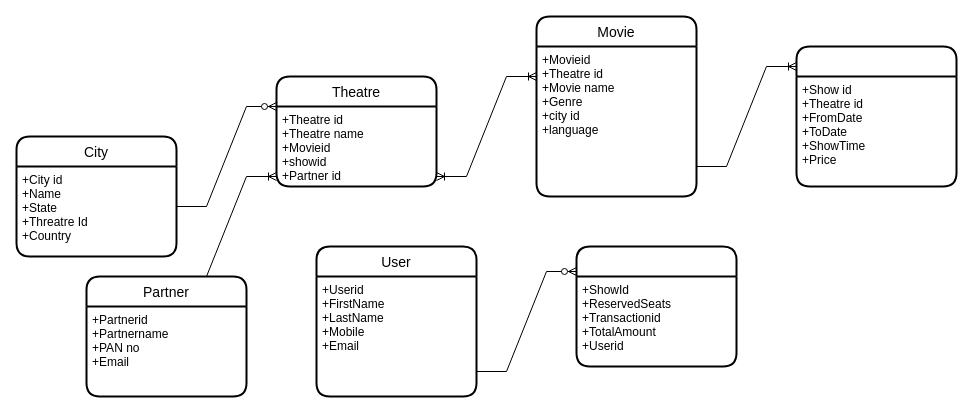
Some shapes in this 973 by 413 pixel diagram are drawn without their labels. The box of each missing label's shape, as (x1, y1, x2, y2) in pixels:
Reservations: (575, 245, 737, 367)
Shows: (795, 45, 957, 187)
